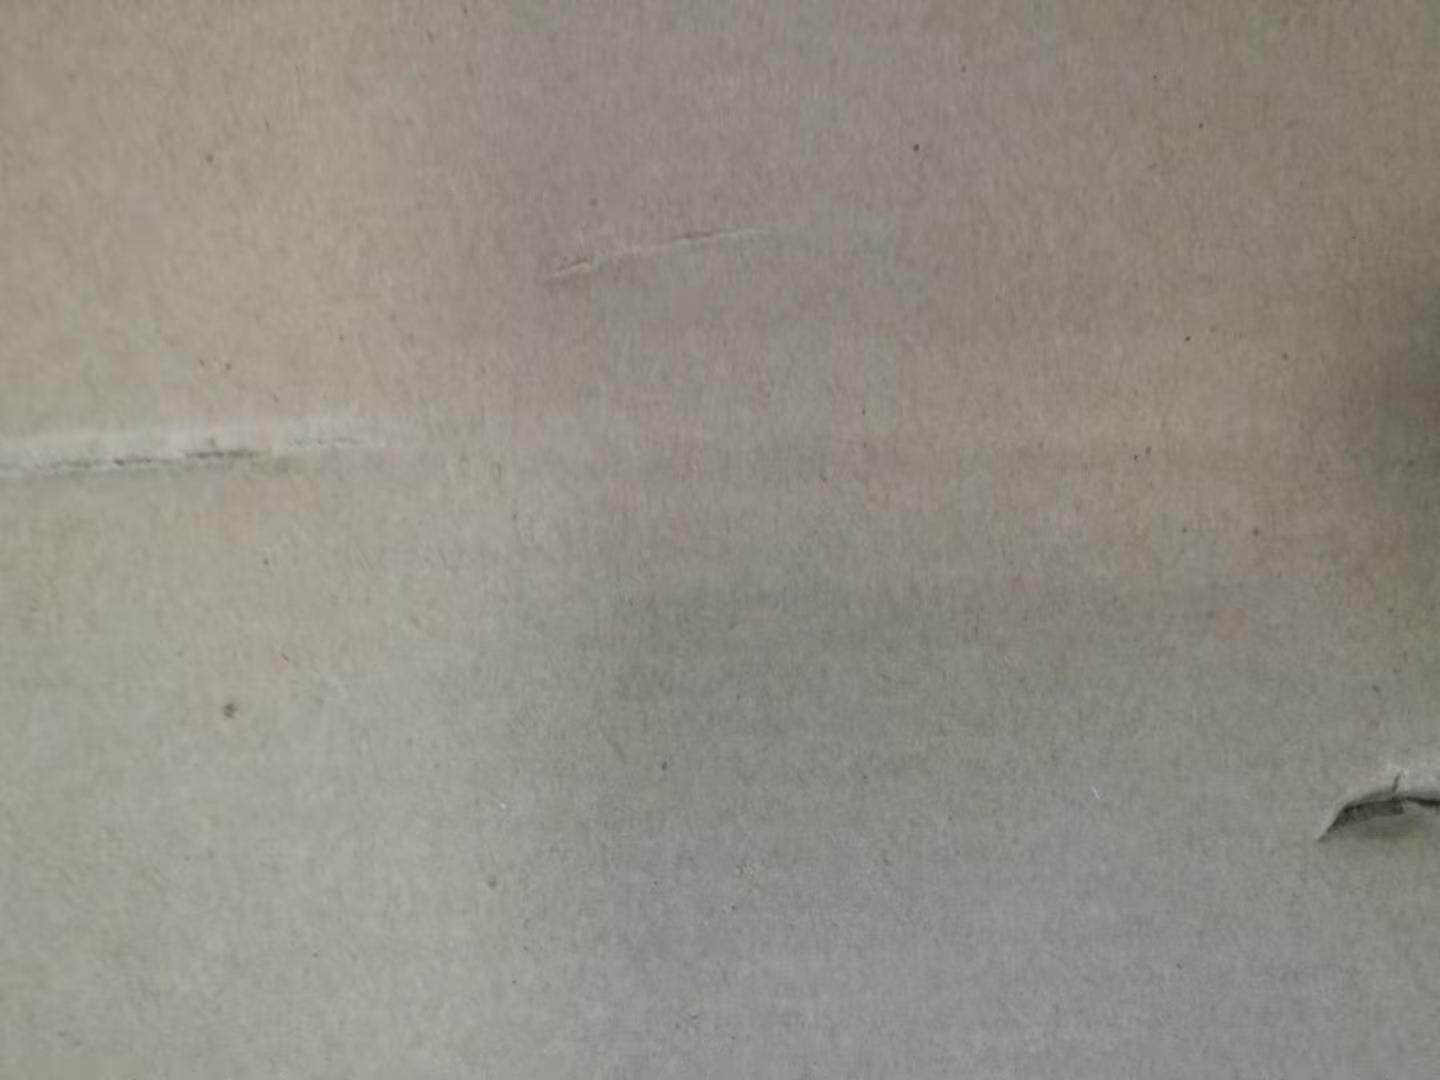defect: (497, 182, 934, 307), (1, 394, 426, 515), (1293, 727, 1440, 867)
